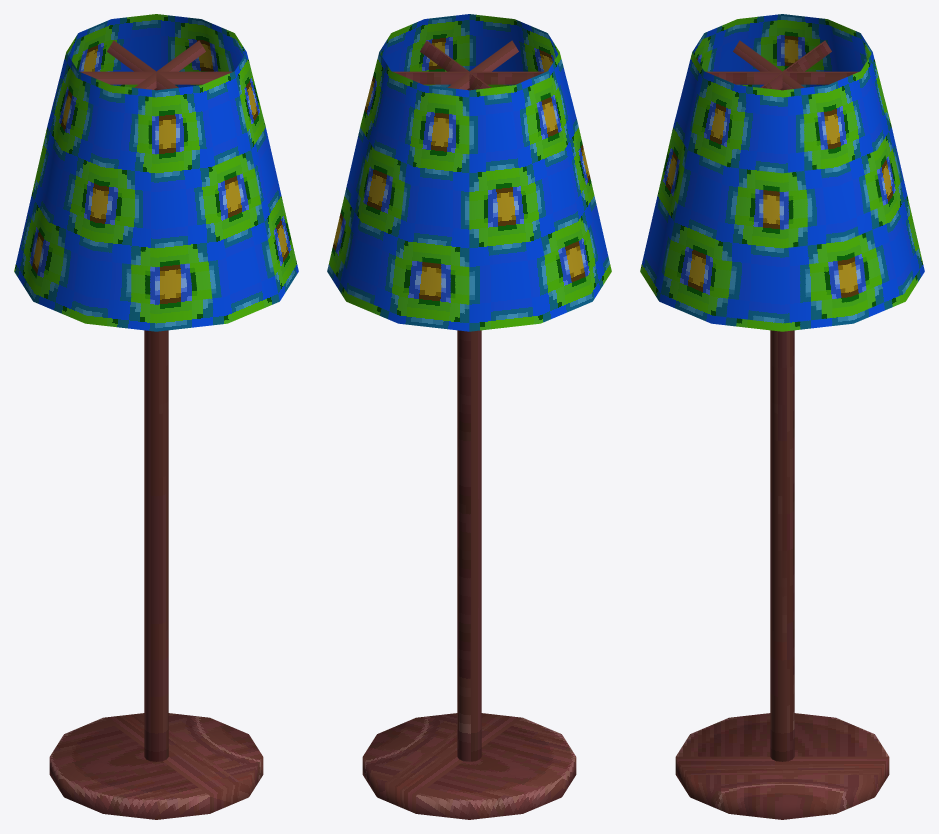
Rendered from int_grf_lamp.dae.
The picture shows the model from 3 angles, left to right: view 1: azimuth 30°, elevation 25°; view 2: azimuth 150°, elevation 25°; view 3: azimuth 270°, elevation 25°; orthographic projection.
Visible parts, largest first — view 1: int_grf_lamp; view 2: int_grf_lamp; view 3: int_grf_lamp.
Part boxes in pixels (box(x1,y1,x2,y2)): int_grf_lamp: box(14, 14, 298, 819); int_grf_lamp: box(327, 14, 611, 819); int_grf_lamp: box(640, 14, 924, 819).
Size of the model in its own units: 20 by 56 by 20.
Materials: 2 (2 with a texture image).
